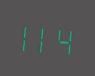four: (57, 20, 75, 58)
one: (18, 17, 36, 55), (38, 19, 56, 56)
